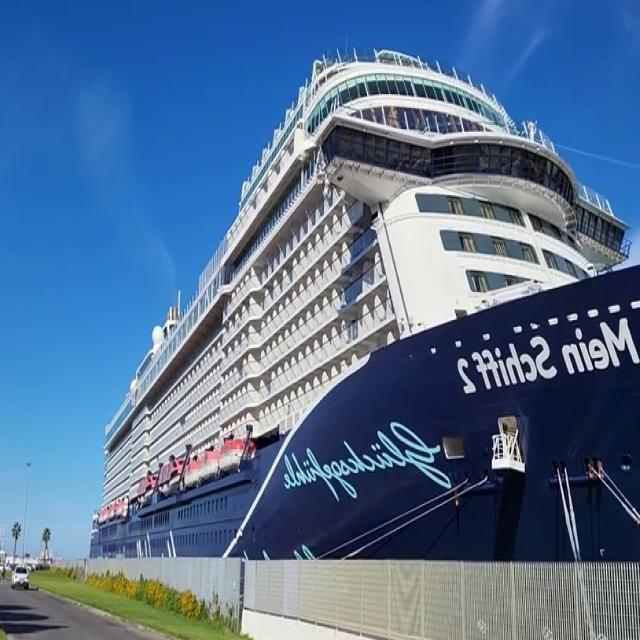passenger ship: (74, 69, 624, 627)
